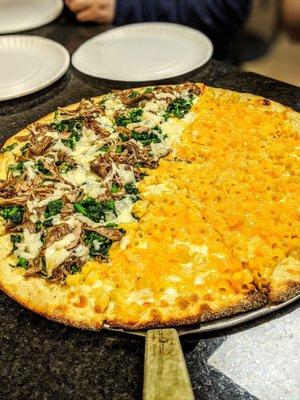curry: (73, 197, 118, 224), (82, 230, 112, 258), (115, 107, 144, 127), (0, 205, 25, 224)
